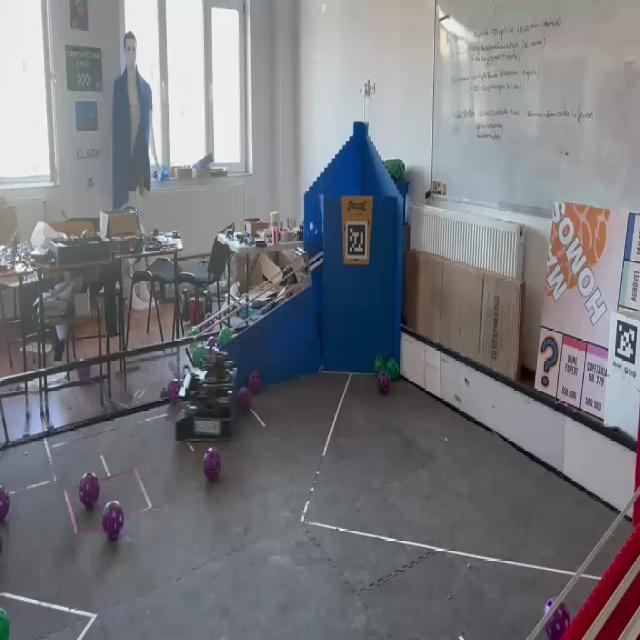artifact_green: (167, 379, 181, 404), (193, 345, 206, 368), (387, 358, 399, 382), (0, 609, 9, 639), (219, 328, 232, 346), (374, 356, 385, 375), (189, 327, 199, 341)
artifact_purple: (545, 599, 570, 639), (102, 501, 124, 540), (79, 473, 99, 508), (204, 448, 221, 482), (237, 387, 251, 415), (0, 486, 10, 522), (377, 371, 391, 395), (167, 379, 181, 403), (77, 366, 92, 385), (249, 371, 261, 394), (207, 336, 218, 348), (205, 313, 212, 322), (0, 536, 3, 555)
